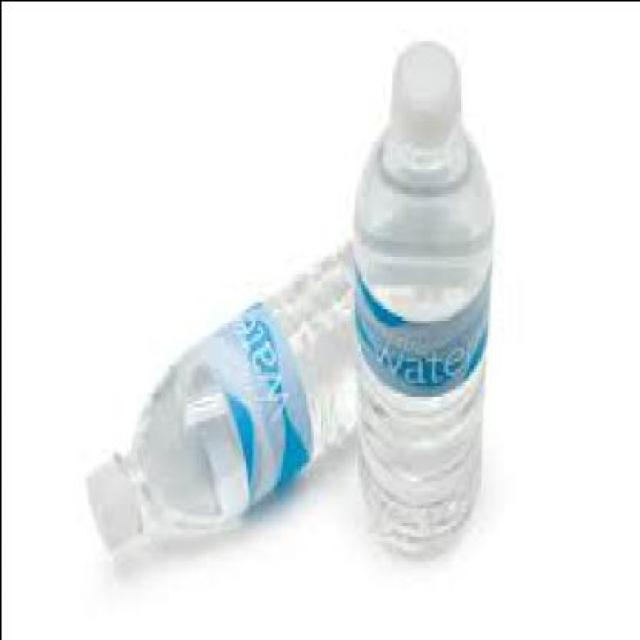PLASTIC: (81, 232, 354, 546), (346, 35, 489, 552), (384, 38, 456, 158), (82, 448, 140, 546)
